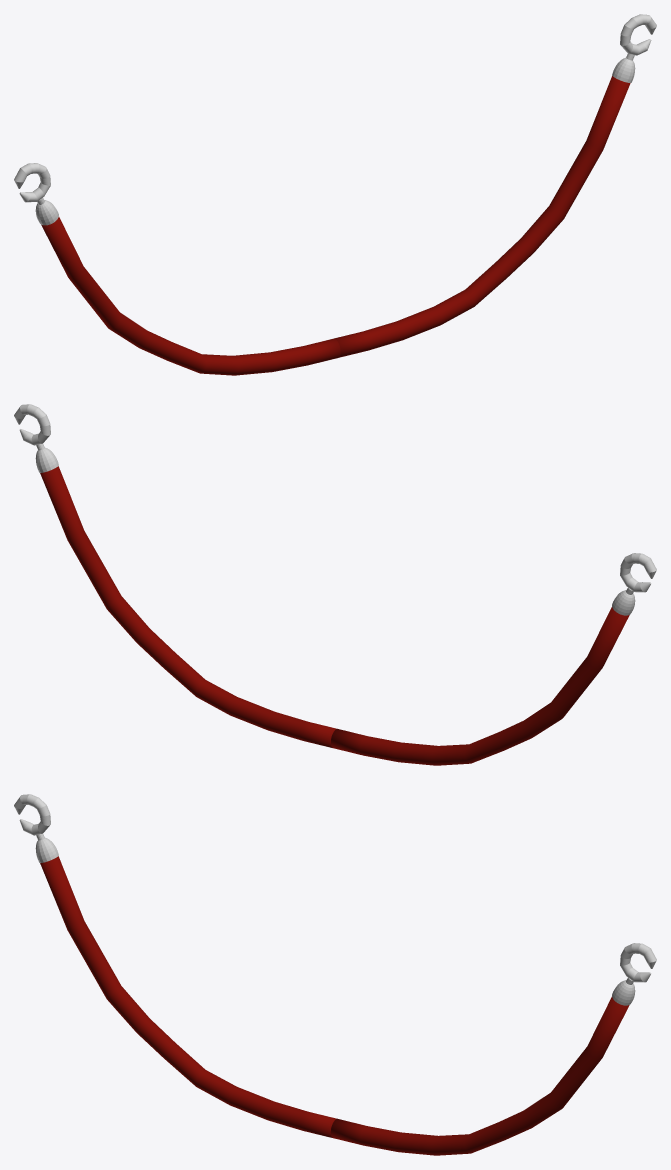
The model's file is QueueRope.fbx.
3 views of the same model, one above another, from view 1: azimuth 30°, elevation 25°; view 2: azimuth 150°, elevation 25°; view 3: azimuth 330°, elevation 25° (orthographic).
Visible parts, largest first — view 1: Hook; view 2: Hook; view 3: Hook.
Boxes of the visible parts, x1,y1,x2,y2 form: Hook: [14, 14, 656, 375]; Hook: [14, 404, 656, 765]; Hook: [14, 794, 656, 1155].
Bounding box in the file's own units: 432 × 173 × 12.79.
